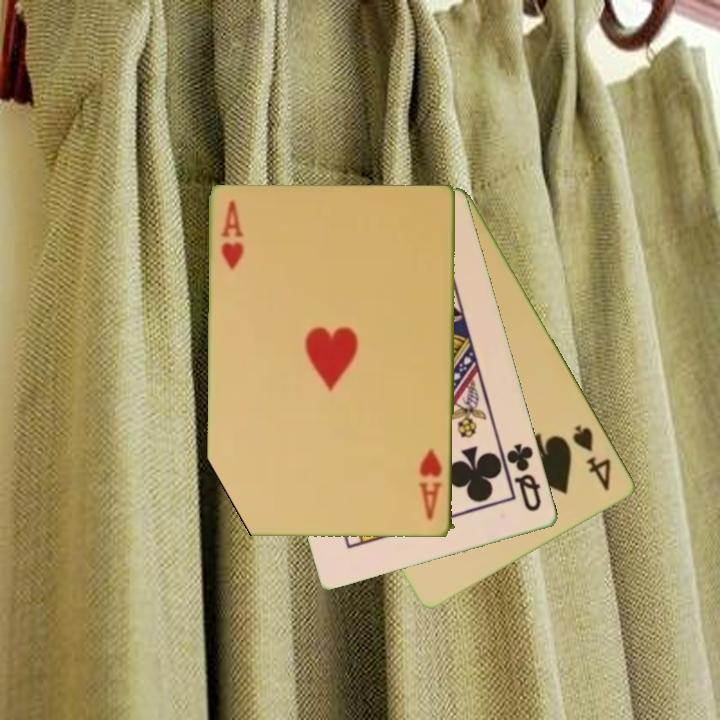4s: (569, 421, 615, 495)
Ah: (217, 197, 247, 273), (417, 446, 446, 524)
Qc: (503, 440, 545, 515)
